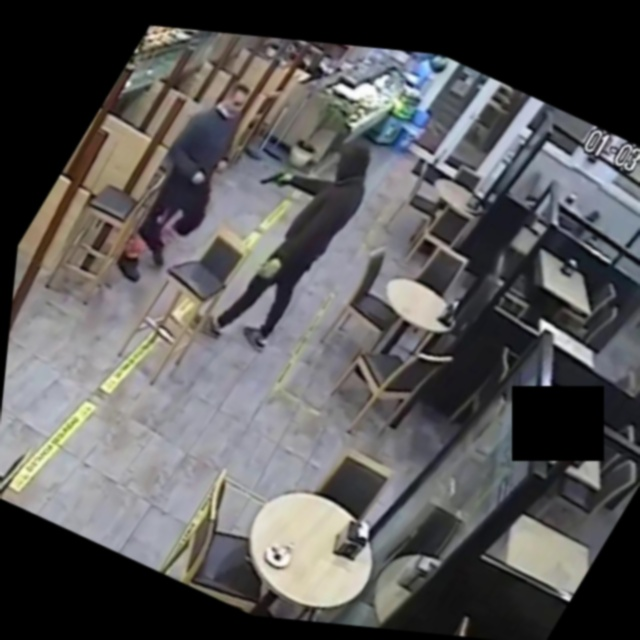gun: (244, 149, 301, 204)
